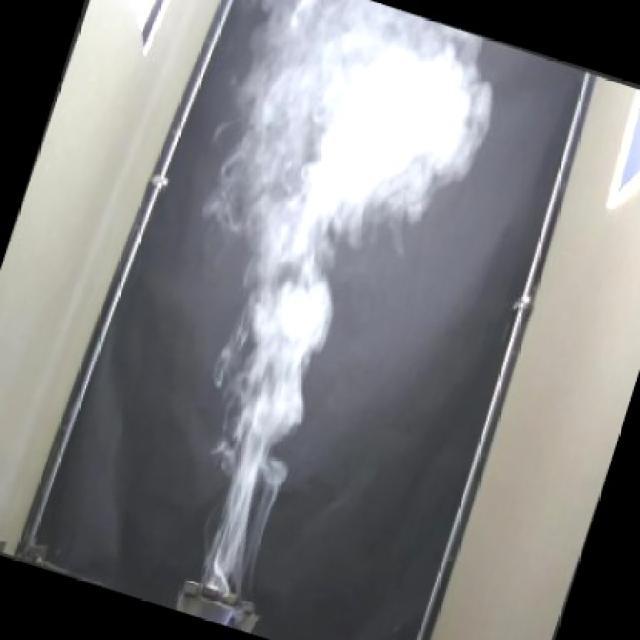smoke: (86, 0, 512, 602)
